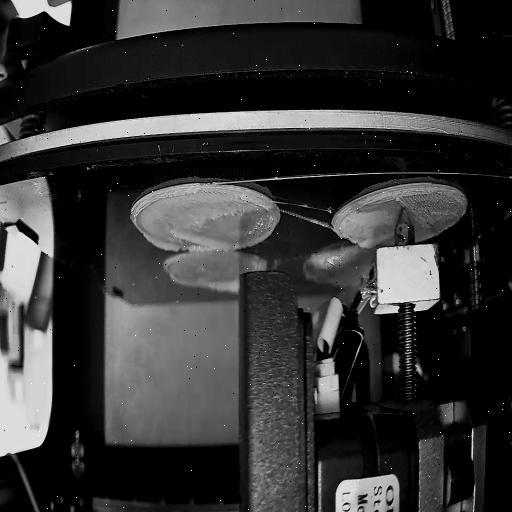over_extrusion: (234, 192, 278, 252), (144, 224, 230, 254), (358, 232, 393, 246), (212, 281, 239, 297)
